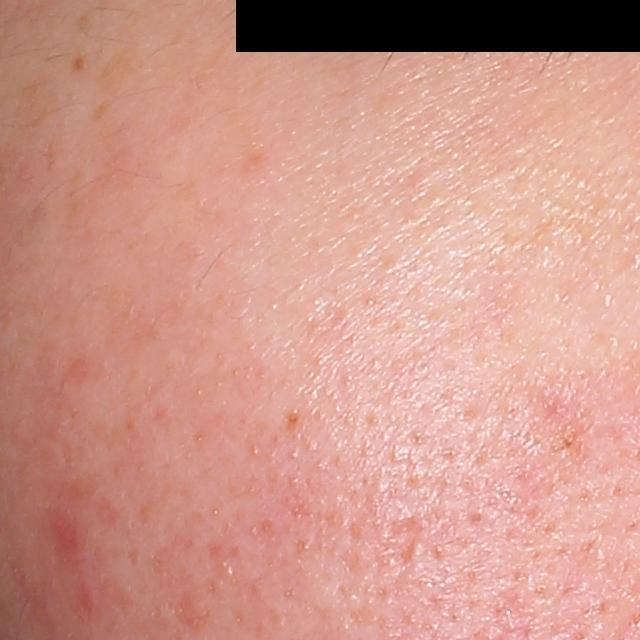melasma: (92, 45, 145, 121), (71, 51, 92, 73)
